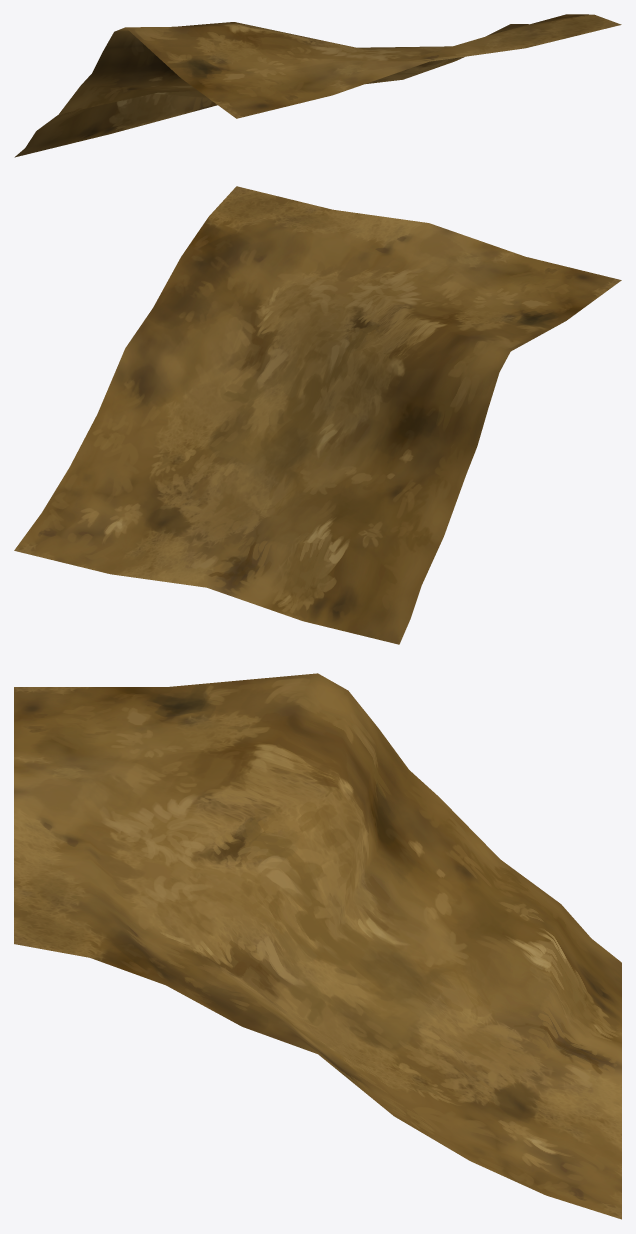
The model's file is Slope_Level_007.fbx.
3 views of the same model, one above another, from view 1: azimuth 30°, elevation 25°; view 2: azimuth 150°, elevation 25°; view 3: azimuth 270°, elevation 25° (orthographic). The views are drawn at different scales.
Parts seen in each view (by area): view 1: Slope_Level_007; view 2: Slope_Level_007; view 3: Slope_Level_007.
Part boxes in pixels (<box>): Slope_Level_007: <box>14,14,621,157</box>; Slope_Level_007: <box>14,186,621,644</box>; Slope_Level_007: <box>14,673,621,1219</box>.
Size of the model in its own units: 10 by 5.25 by 10.
Materials: 1 (1 with a texture image).
